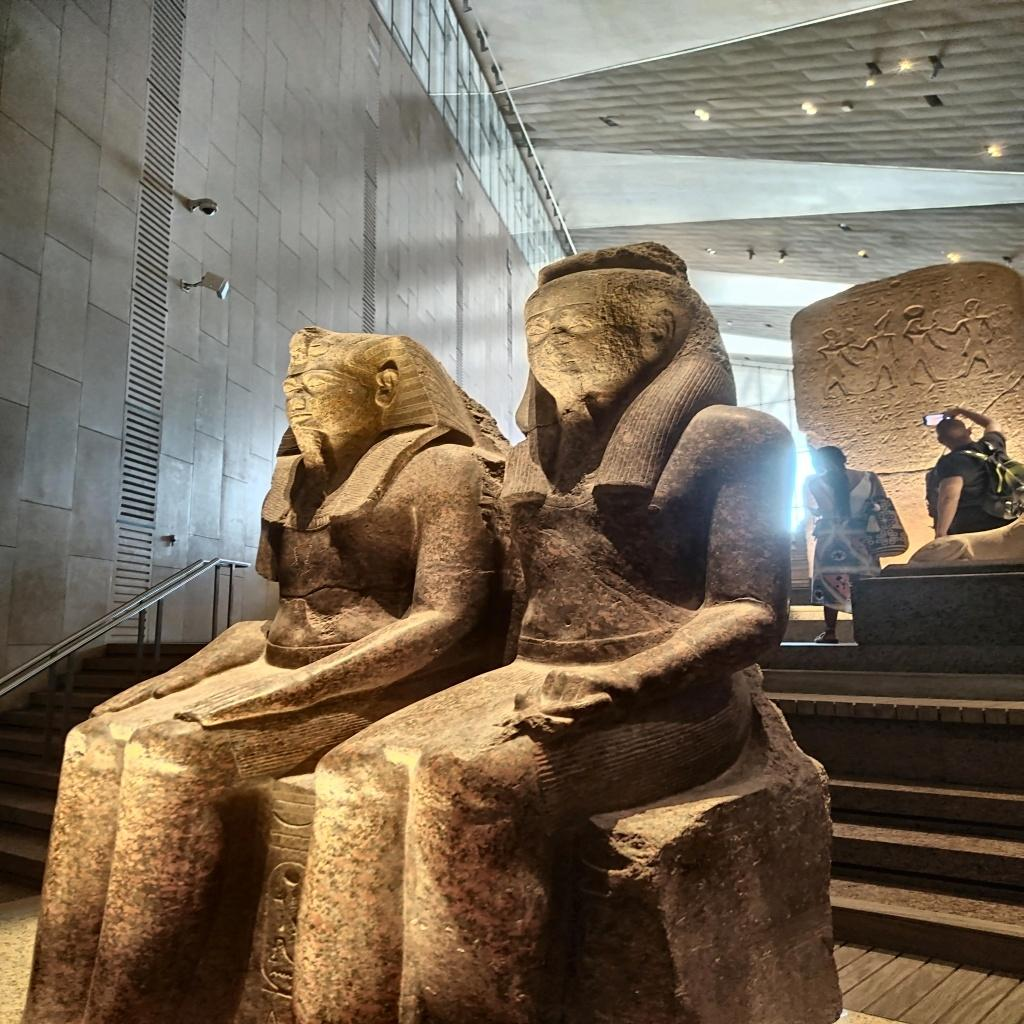Seated Statue of Ramesses II and God Ptah: (52, 244, 822, 1002)
